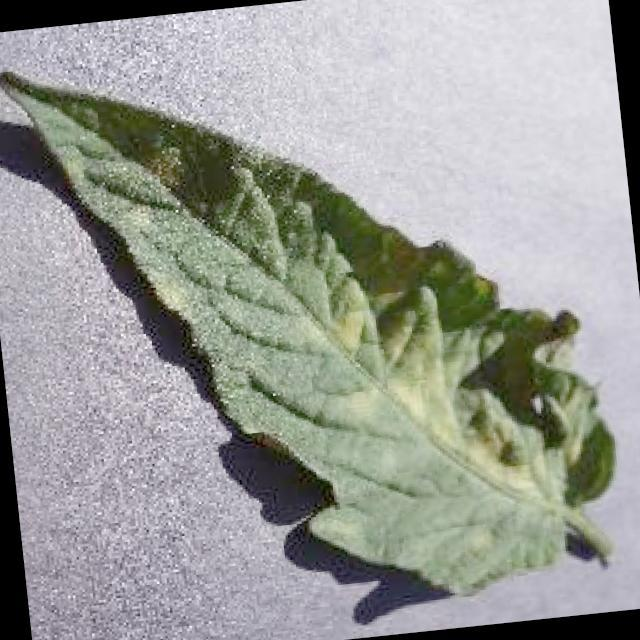Tomato mold leaf: (0, 11, 626, 638)
